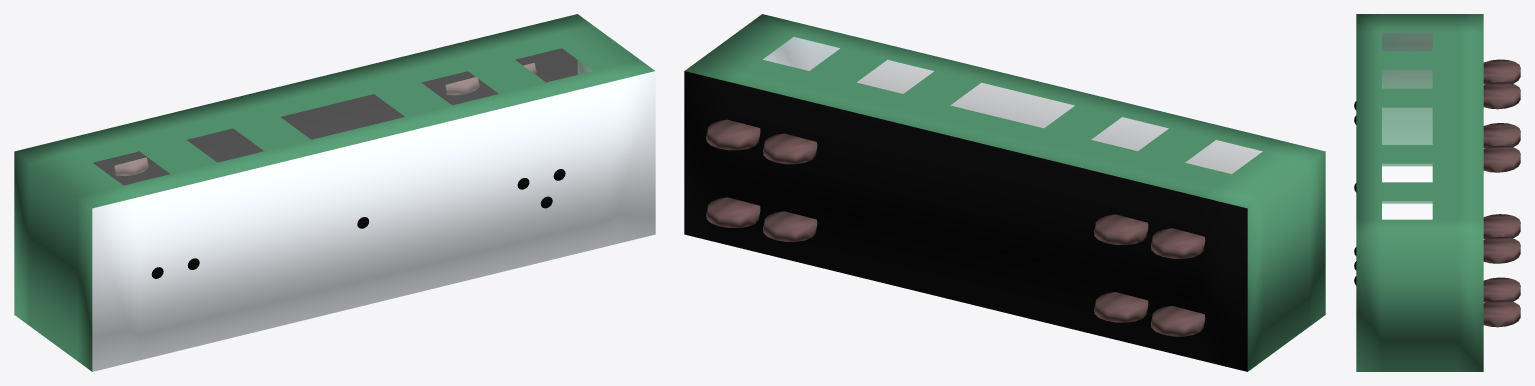
Rendered from asset2.glb.
The picture shows the model from 3 angles, left to right: view 1: azimuth 30°, elevation 25°; view 2: azimuth 150°, elevation 25°; view 3: azimuth 270°, elevation 25°; orthographic projection. The views are drawn at different scales.
Parts seen in each view (by area): view 1: Cube1, Cube16, Cylinder8_copy24; view 2: Cube1, Cube16, Cylinder8_copy24, Cylinder8_copy9; view 3: Cube1, Cube16, Cylinder8_copy9, Cylinder8_copy24.
Boxes of the visible parts, bbox=[...] form: Cube1: bbox=[14, 14, 655, 371]; Cube16: bbox=[93, 48, 591, 184]; Cylinder8_copy24: bbox=[114, 62, 536, 176]; Cube1: bbox=[684, 14, 1325, 371]; Cube16: bbox=[763, 37, 1262, 173]; Cylinder8_copy24: bbox=[706, 119, 1205, 258]; Cylinder8_copy9: bbox=[706, 197, 1205, 336]; Cube1: bbox=[1356, 14, 1483, 371]; Cube16: bbox=[1382, 33, 1432, 219]; Cylinder8_copy9: bbox=[1483, 123, 1520, 327]; Cylinder8_copy24: bbox=[1483, 59, 1520, 263].
Size of the model in its own units: 1 by 0.2774 by 0.314.
